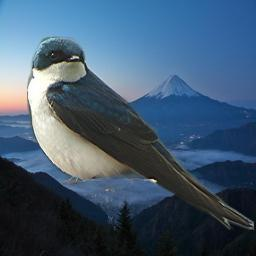Swallow: (27, 36, 254, 230)
